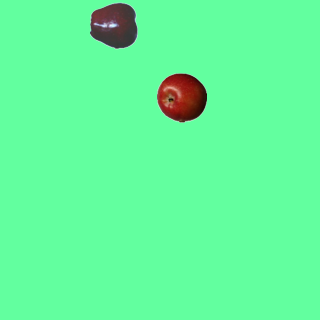Apple Braeburn: (156, 72, 206, 122)
Apple Red Delicious: (89, 0, 139, 50)
